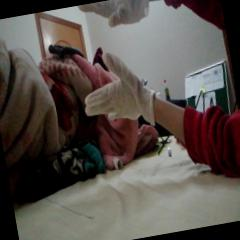gloved: (76, 44, 158, 136), (77, 0, 154, 33)
